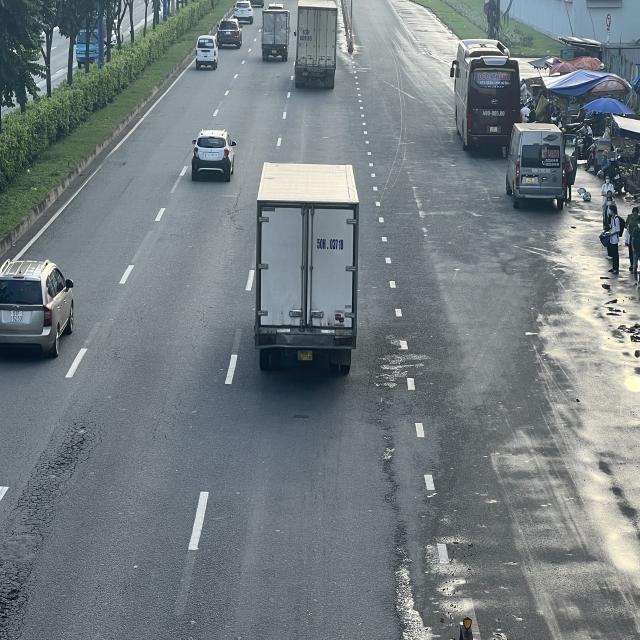car: (0, 259, 74, 358), (193, 129, 238, 180), (216, 19, 243, 49)
coach: (452, 36, 523, 150)
container: (296, 0, 341, 89)
truck: (257, 162, 363, 376), (262, 6, 291, 60)
van: (509, 121, 572, 208), (196, 34, 218, 68)
